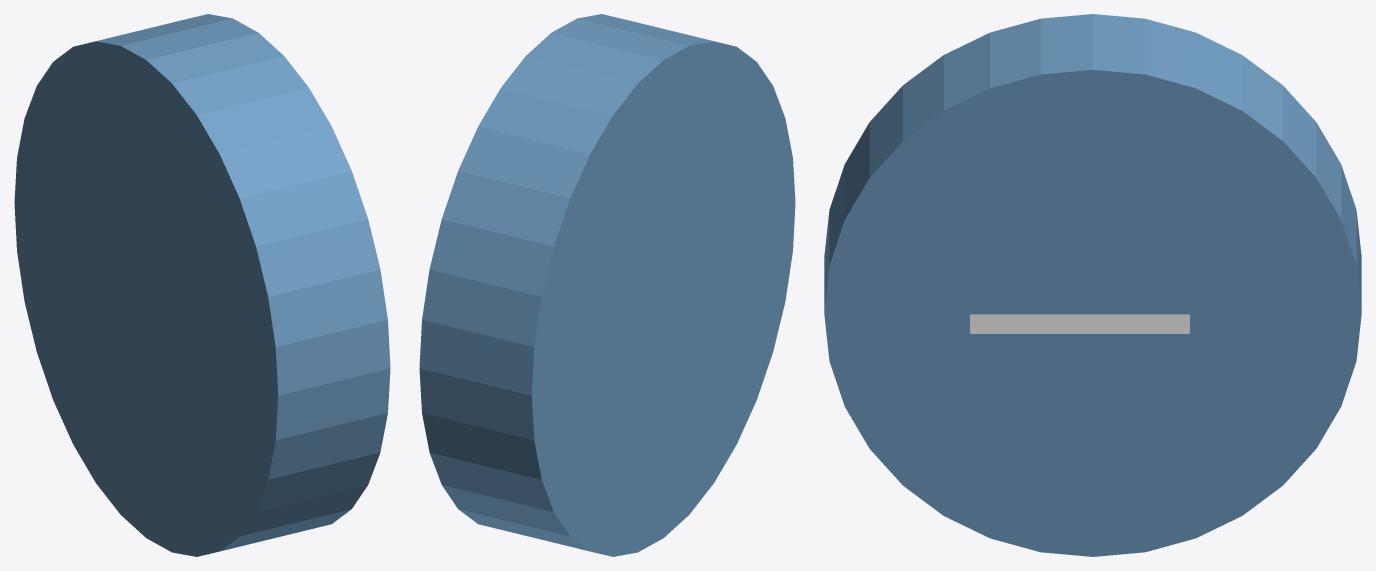
The model's file is botonmenos.glb.
3 renders of one model, left to right at view 1: azimuth 30°, elevation 25°; view 2: azimuth 150°, elevation 25°; view 3: azimuth 270°, elevation 25°, orthographic.
Visible parts, largest first — view 1: Cilindro; view 2: Cilindro; view 3: Cilindro, Texto.002.
Part boxes in pixels (left/top/right/bottom): Cilindro: left=14, top=14, right=390, bottom=556; Cilindro: left=419, top=14, right=795, bottom=556; Cilindro: left=824, top=14, right=1361, bottom=556; Texto.002: left=970, top=314, right=1189, bottom=333.
Size of the model in its own units: 0.0274 by 0.1 by 0.1.
